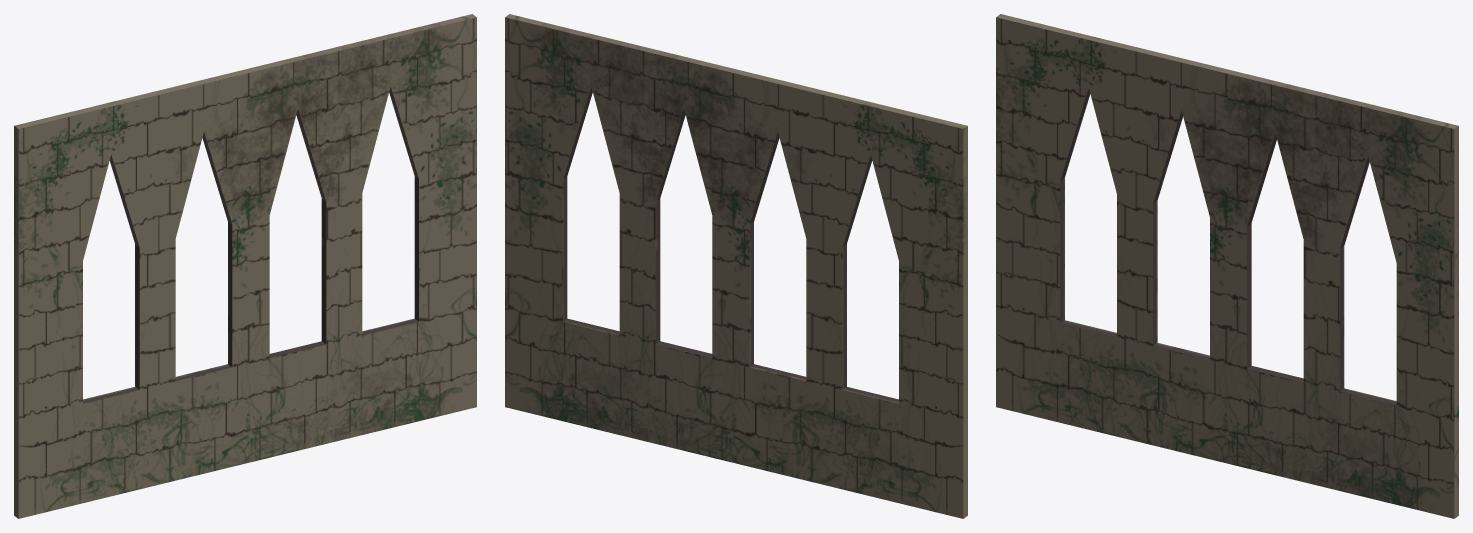
File: mur II_1.FBX
3 renders of one model, left to right at view 1: azimuth 30°, elevation 25°; view 2: azimuth 150°, elevation 25°; view 3: azimuth 330°, elevation 25°, orthographic.
Visible parts, largest first — view 1: II 1; view 2: II 1; view 3: II 1.
Part boxes in pixels (x1,y1,x2,y2): II 1: (14, 14, 476, 518); II 1: (505, 14, 967, 518); II 1: (996, 14, 1458, 518).
Bounding box in the file's own units: 30.19 × 24.54 × 0.5117.
